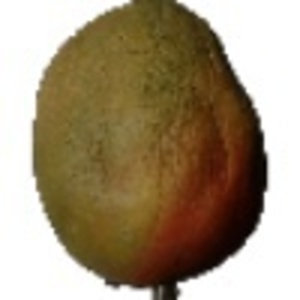mamão: (24, 5, 271, 289)
